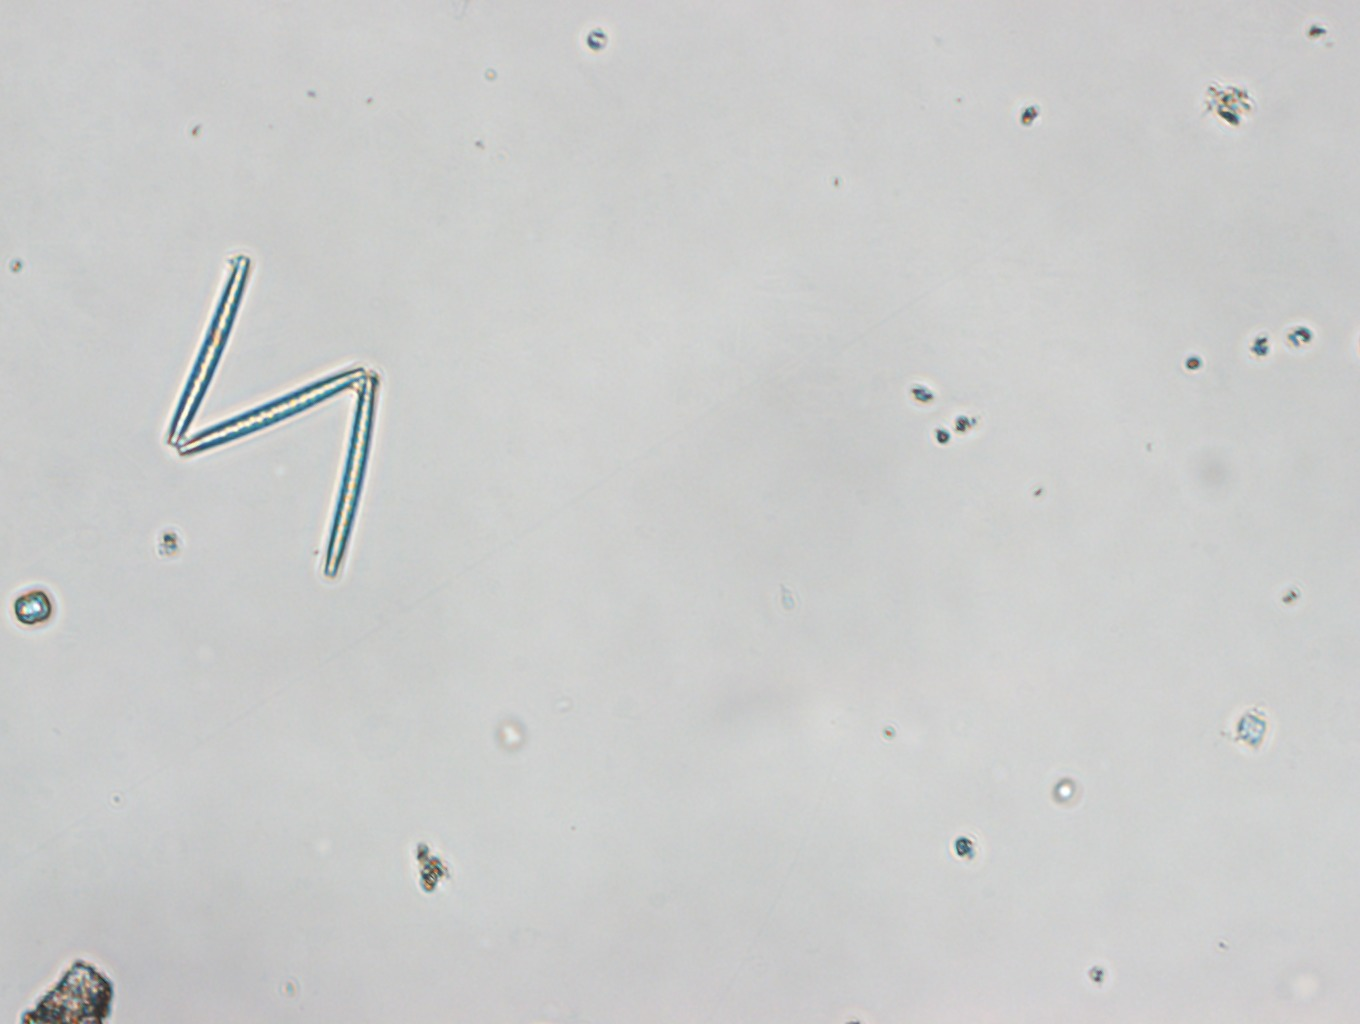thalassionema nitzschioides: (158, 254, 393, 583)
